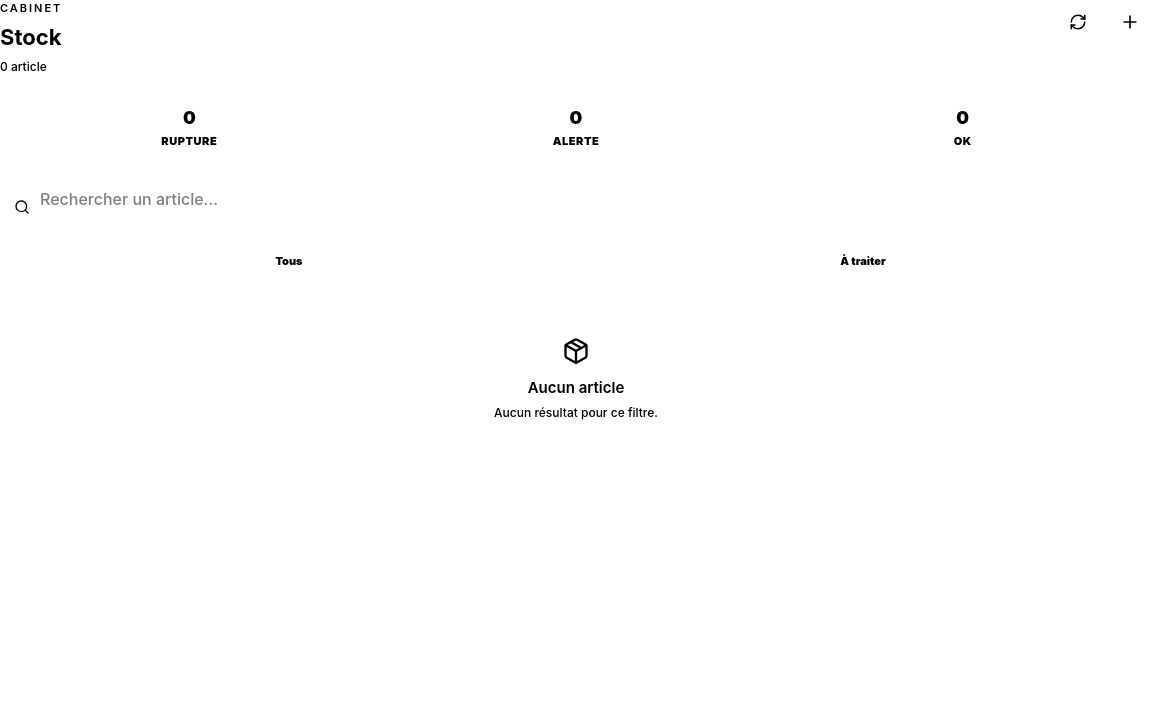
StockView MOB-5D › creates a quick item through the Pocket API and exposes no delete action
Check: the heading "Aucun article" is shown, box [528,378,624,397]
Click the button named "Ajouter un article". click: x=1130, y=22
box: [1108,0,1151,44]
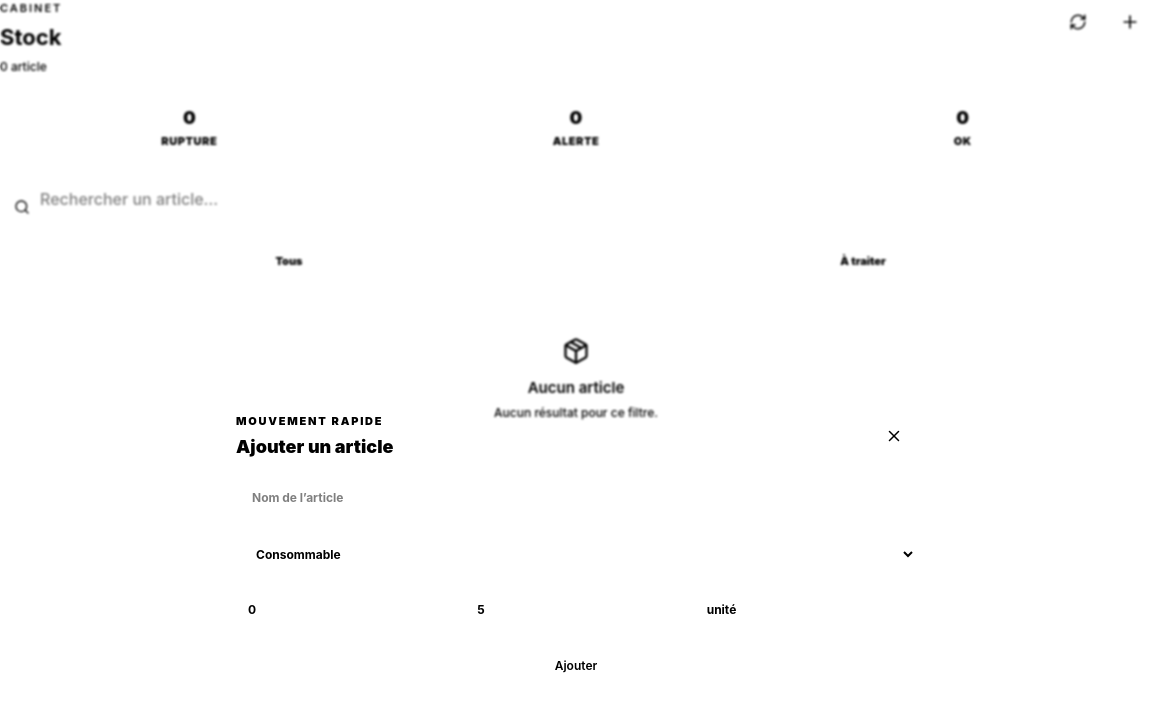
Type "Compresses" into the field with placeholder "Nom de l’article". click: x=576, y=498
box: [236,476,916,520]
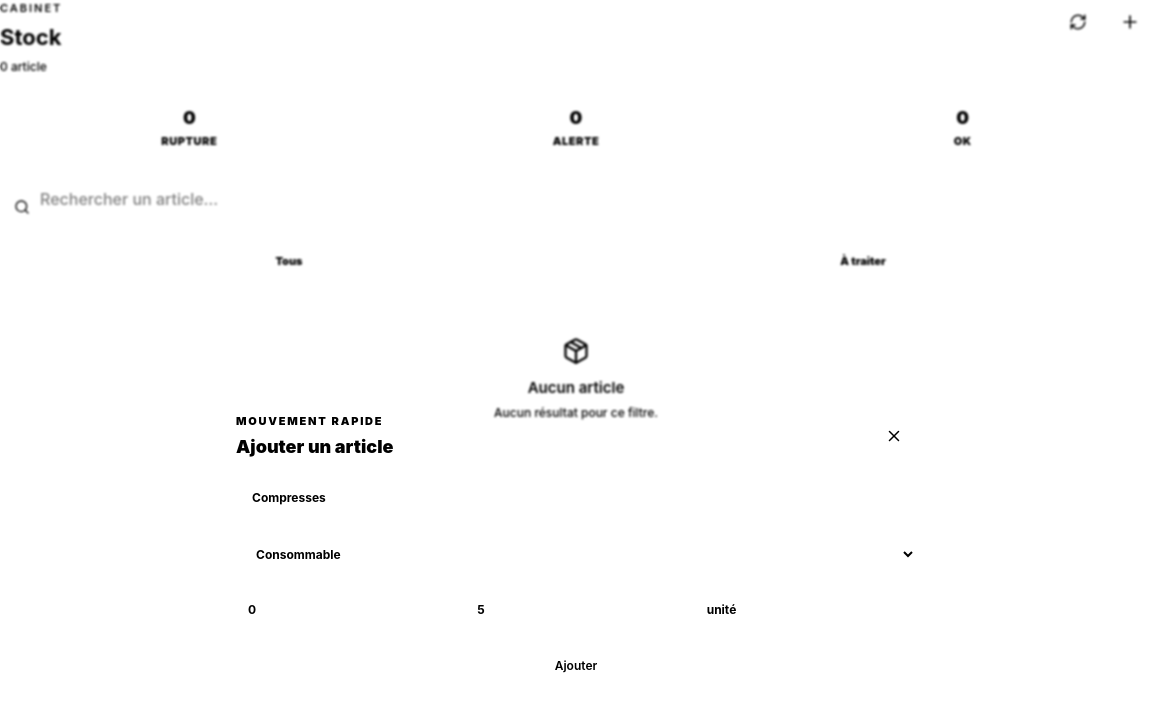
Replace the text in the number field named "Quantité" with "10". click: x=347, y=610
box: [236,588,457,632]
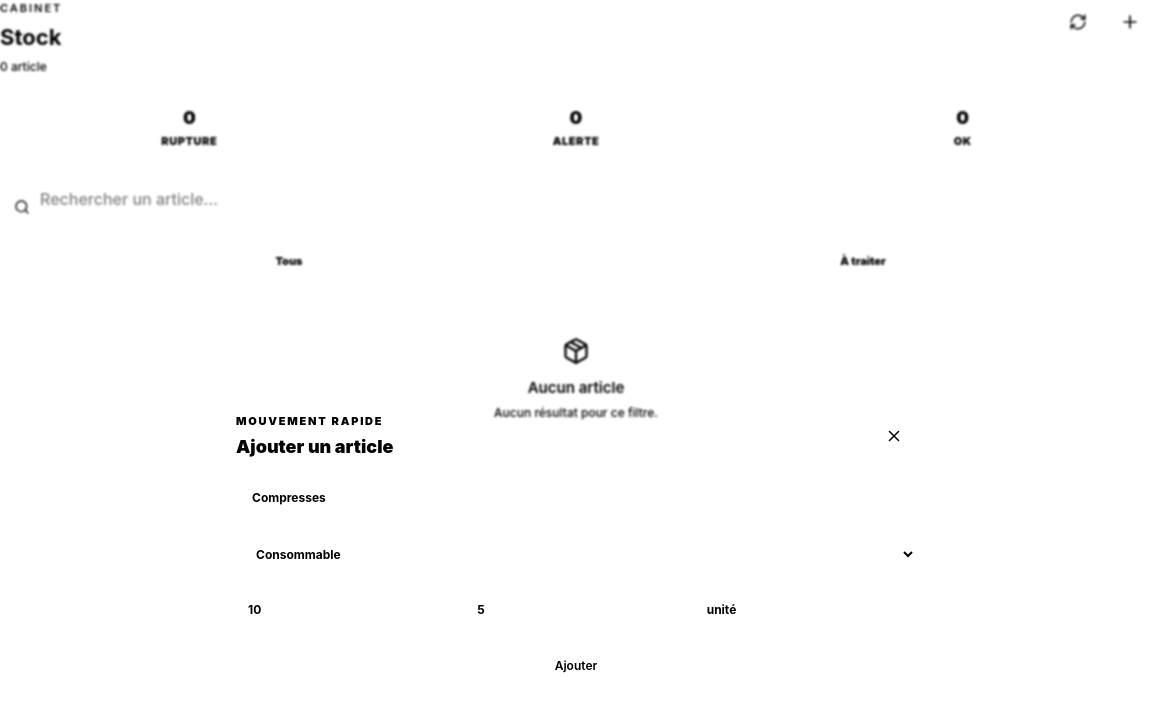
Replace the text in the number field named "Seuil d'alerte" with "4". click: x=576, y=610
box: [465,588,687,632]
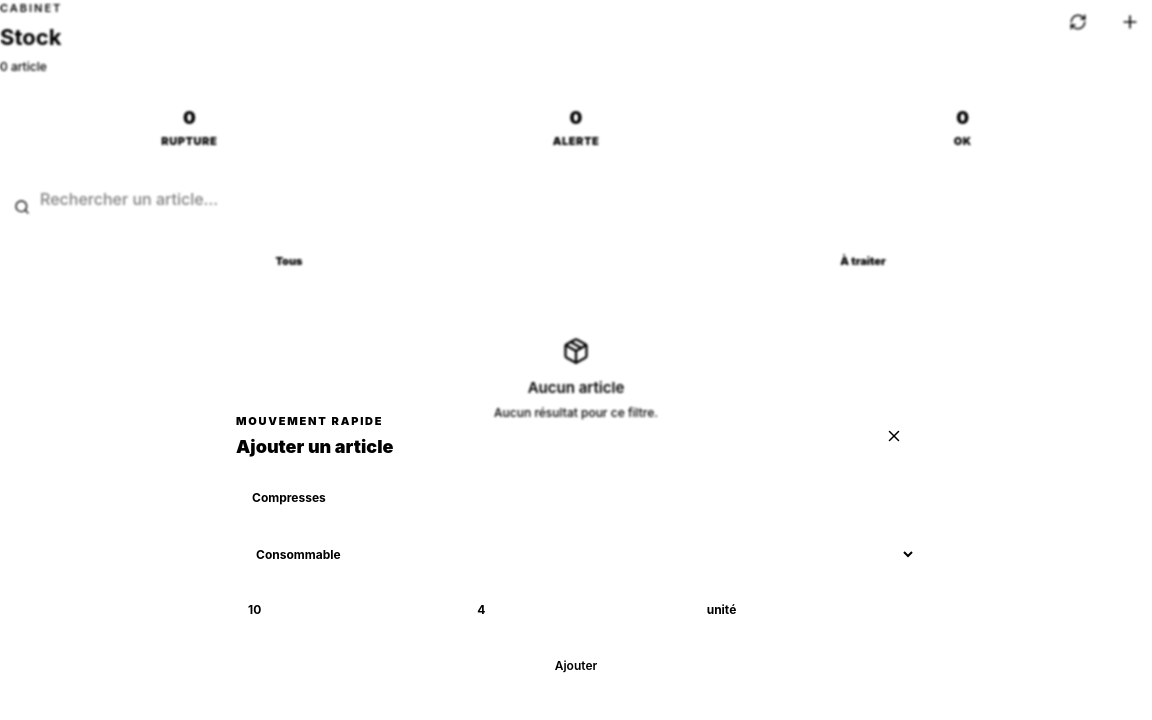
Replace the text in the field named "Unité" with "paquets". click: x=805, y=610
box: [695,588,916,632]
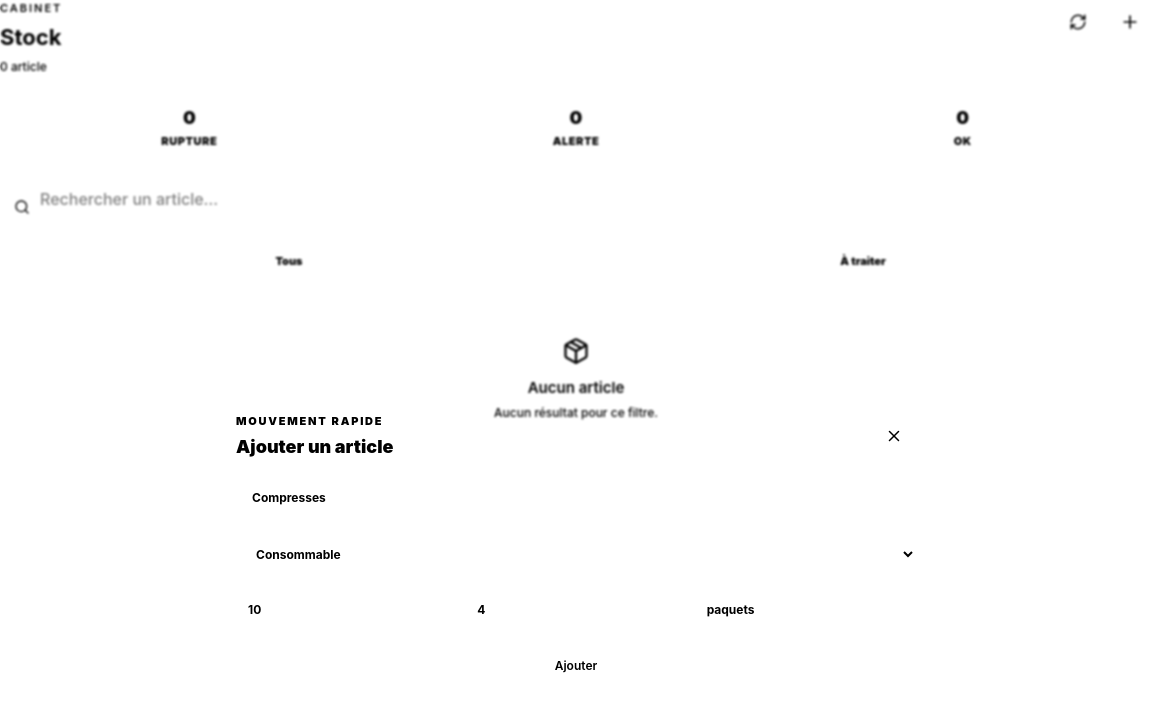
Click the button "Ajouter". click: x=576, y=666
box: [236,644,916,688]
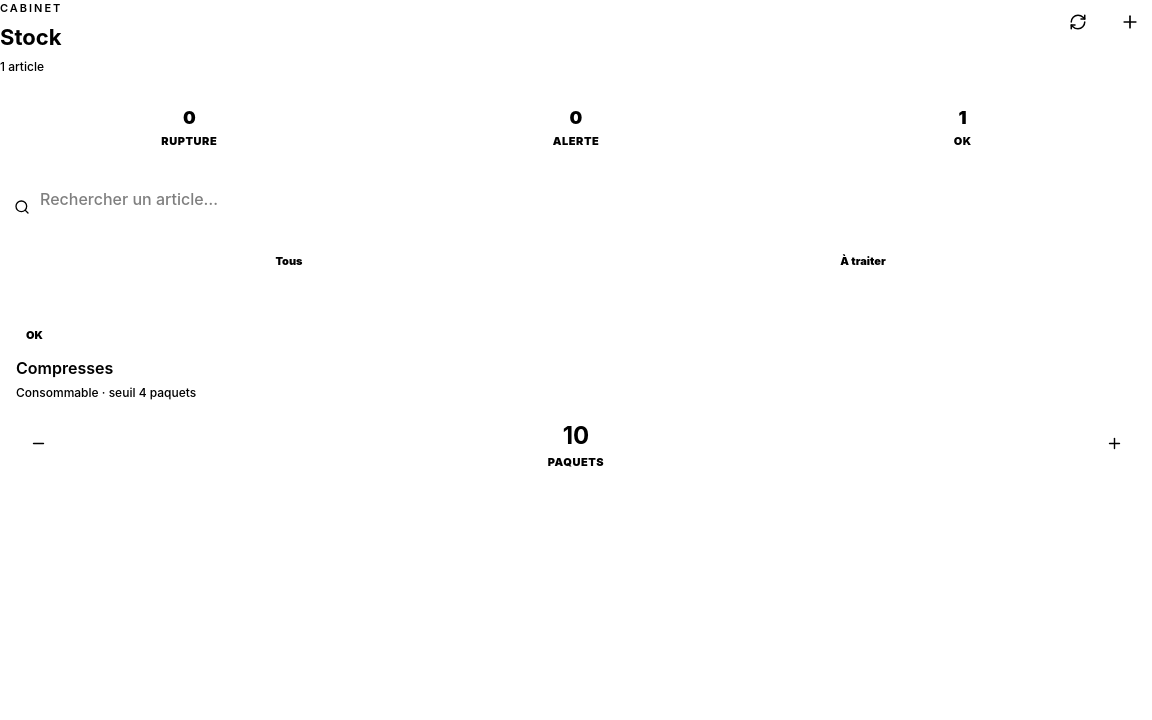
Check: the heading "Compresses" is shown, box [16,358,113,378]
